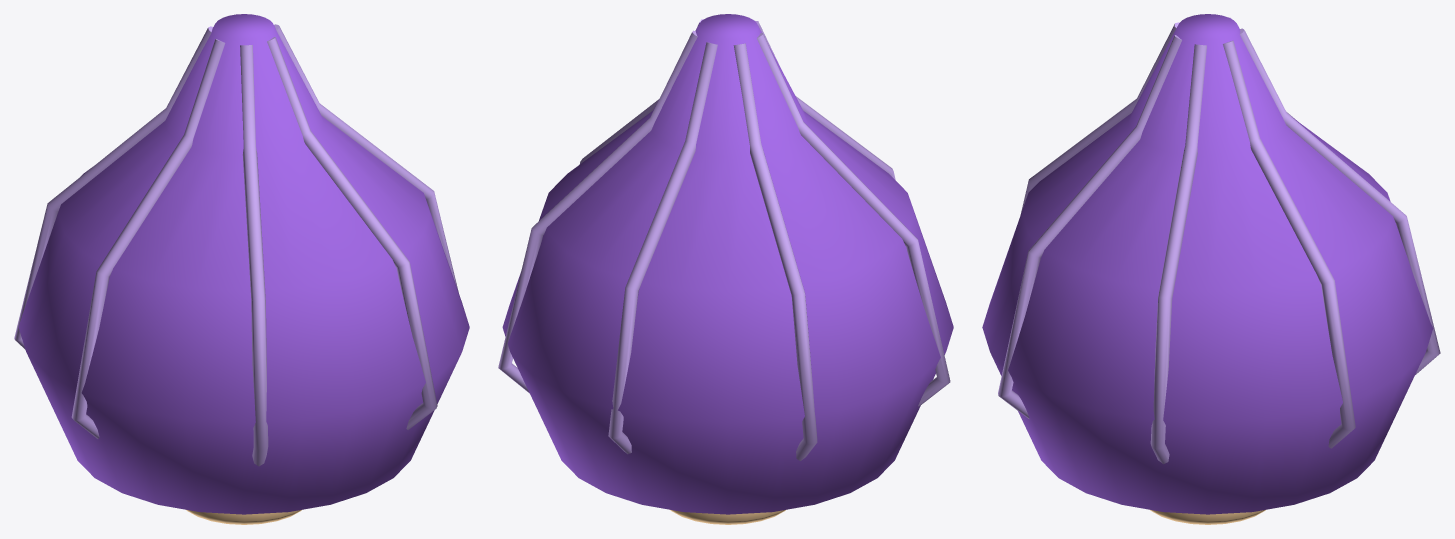
File: onion.fbx
The picture shows the model from 3 angles, left to right: view 1: azimuth 30°, elevation 25°; view 2: azimuth 150°, elevation 25°; view 3: azimuth 270°, elevation 25°; orthographic projection.
Visible parts, largest first — view 1: onion; view 2: onion; view 3: onion.
Part boxes in pixels (x1,y1,x2,y2): onion: [14, 14, 469, 524]; onion: [498, 14, 953, 524]; onion: [982, 14, 1440, 524].
Size of the model in its own units: 87.34 by 100 by 88.25.
Materials: 1 (1 with a texture image).
